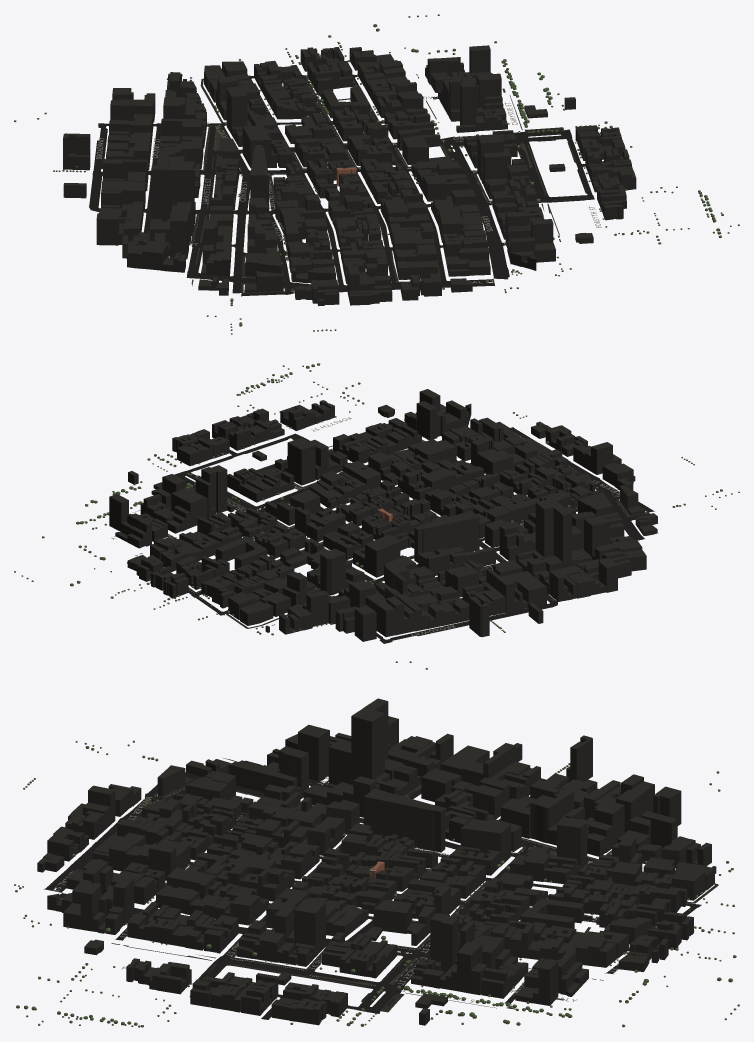
File: mott_167.glb
3 renders of one model, top to bottom at view 1: azimuth 30°, elevation 25°; view 2: azimuth 150°, elevation 25°; view 3: azimuth 270°, elevation 25°, orthographic. The views are drawn at different scales.
Parts seen in each view (by area): view 1: NOLITA_MASSING, ROADBED, TREES, SIDEWALK, MEDIAN; view 2: NOLITA_MASSING, ROADBED, TREES; view 3: NOLITA_MASSING, ROADBED, TREES, SIDEWALK, MEDIAN.
Part boxes in pixels (box(x1,y1,x2,y2)): NOLITA_MASSING: box(63, 45, 636, 306); ROADBED: box(89, 74, 594, 296); TREES: box(14, 14, 739, 334); SIDEWALK: box(149, 77, 563, 293); MEDIAN: box(191, 74, 580, 291); NOLITA_MASSING: box(109, 389, 657, 641); ROADBED: box(168, 427, 654, 643); TREES: box(14, 363, 739, 669); NOLITA_MASSING: box(37, 698, 716, 1025); ROADBED: box(43, 760, 701, 1019); TREES: box(14, 740, 739, 1027); SIDEWALK: box(53, 779, 718, 1012); MEDIAN: box(111, 758, 603, 1009).
Size of what is drawn, in the model's own units: 838 by 105 by 886.
